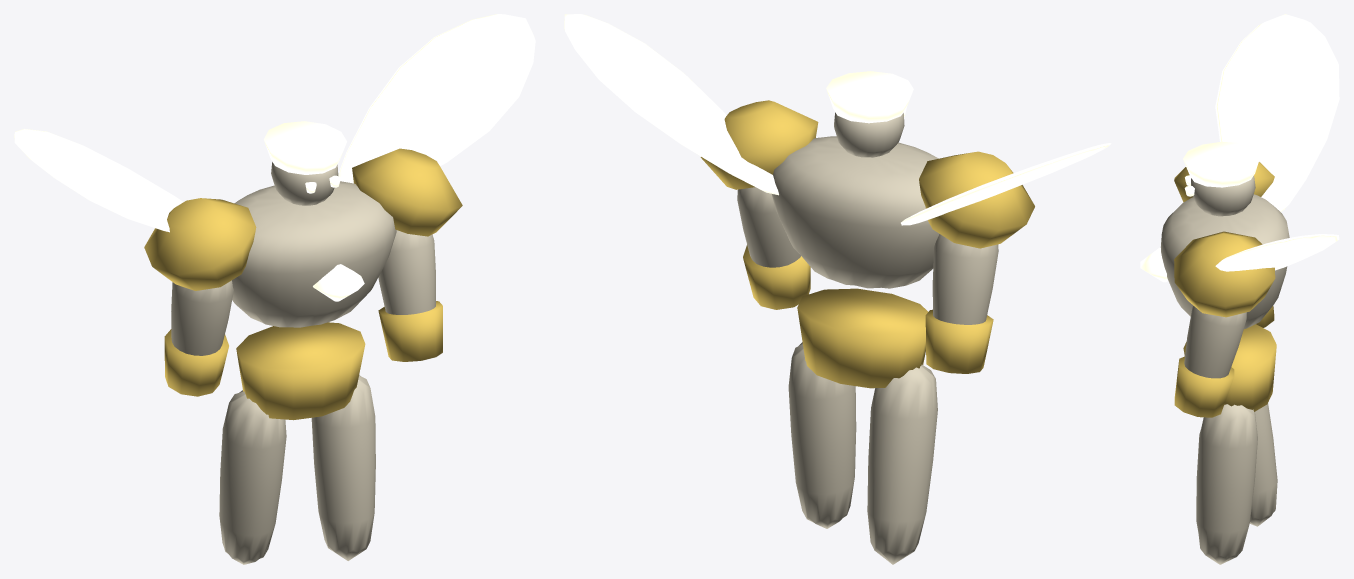
The model's file is celestial_warden.glb.
3 views of the same model, side by side, from view 1: azimuth 30°, elevation 25°; view 2: azimuth 150°, elevation 25°; view 3: azimuth 270°, elevation 25° (orthographic). The views are drawn at different scales.
Parts seen in each view (by area): view 1: Wing_1, TorsoMass, PelvisArmor, Leg_LegL, Leg_LegR, Pauldron_-1, Wing_-1, Pauldron_1, Arm_ArmR, Arm_ArmL, Crown, Gauntlet_ArmR (+3 smaller); view 2: TorsoMass, Wing_1, Leg_LegL, PelvisArmor, Leg_LegR, Pauldron_-1, Pauldron_1, Arm_ArmL, Crown, Gauntlet_ArmL, Arm_ArmR, Wing_-1 (+2 smaller); view 3: Wing_-1, Leg_LegR, Pauldron_1, TorsoMass, Arm_ArmR, PelvisArmor, Crown, Wing_1, Leg_LegL, Gauntlet_ArmR, BossHead, Pauldron_-1 (+1 smaller).
Part boxes in pixels (x1,y1,x2,y2): Wing_1: (338,14,535,183); TorsoMass: (232,181,396,327); PelvisArmor: (236,322,365,420); Leg_LegL: (219,390,286,564); Leg_LegR: (311,375,375,560); Pauldron_-1: (144,198,256,290); Wing_-1: (14,128,183,232); Pauldron_1: (352,148,462,236); Arm_ArmR: (378,230,435,314); Arm_ArmL: (171,280,233,355); Crown: (263,121,346,174); Gauntlet_ArmR: (378,301,442,361); TorsoMass: (772,136,939,288); Wing_1: (564,14,778,195); Leg_LegL: (867,364,937,564); PelvisArmor: (797,288,927,388); Leg_LegR: (788,342,856,528); Pauldron_-1: (919,151,1034,248); Pauldron_1: (700,100,818,189); Arm_ArmL: (932,234,998,324); Crown: (826,71,913,123); Gauntlet_ArmL: (925,309,993,373); Arm_ArmR: (737,187,800,267); Wing_-1: (901,143,1111,225); Wing_-1: (1215,14,1339,211); Leg_LegR: (1196,404,1257,564); Pauldron_1: (1174,231,1275,317); TorsoMass: (1160,194,1289,328); Arm_ArmR: (1184,305,1246,378); PelvisArmor: (1183,324,1276,411); Crown: (1183,141,1260,187); Wing_1: (1215,234,1339,271); Leg_LegL: (1249,403,1277,526); Gauntlet_ArmR: (1174,356,1234,417); BossHead: (1191,176,1255,216); Pauldron_-1: (1174,162,1274,202).
Size of the model in its own units: 3.42 by 2.97 by 1.28.
3 materials, 3 textured.
